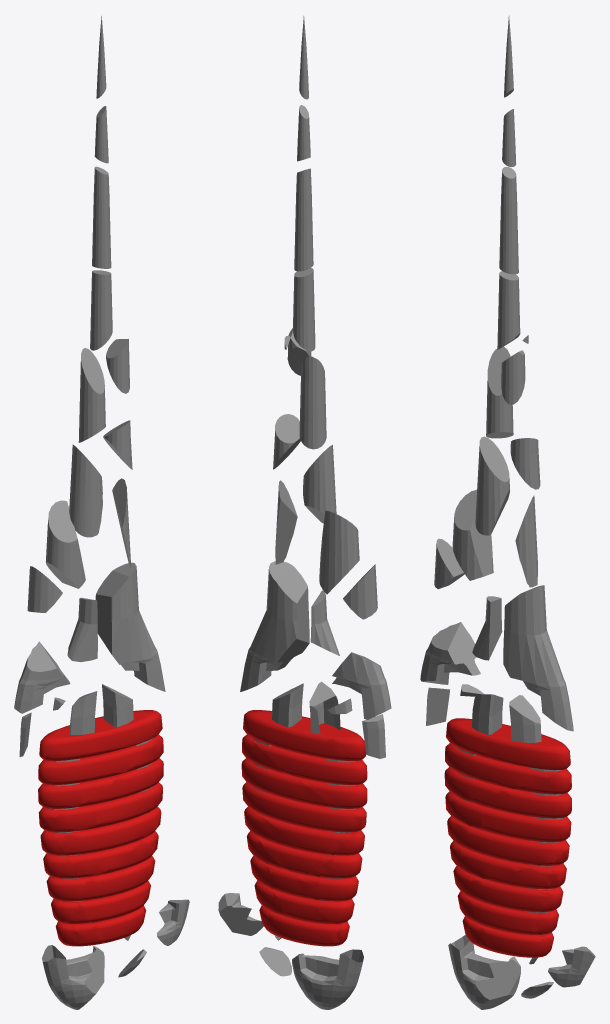
Rendered from Crashed Needle.FBX.
The picture shows the model from 3 angles, left to right: view 1: azimuth 30°, elevation 25°; view 2: azimuth 150°, elevation 25°; view 3: azimuth 330°, elevation 25°; orthographic projection.
Visible parts, largest first — view 1: Group014, Cylinder007; view 2: Group014, Cylinder007; view 3: Group014, Cylinder007.
Boxes of the visible parts, x1,y1,x2,y2 form: Group014: (14,16,189,1009); Cylinder007: (38,597,163,946); Group014: (218,16,391,1009); Cylinder007: (241,590,367,946); Group014: (420,15,595,1009); Cylinder007: (444,596,571,964).
Bounding box in the file's own units: 13.1 × 71.55 × 3.19.
